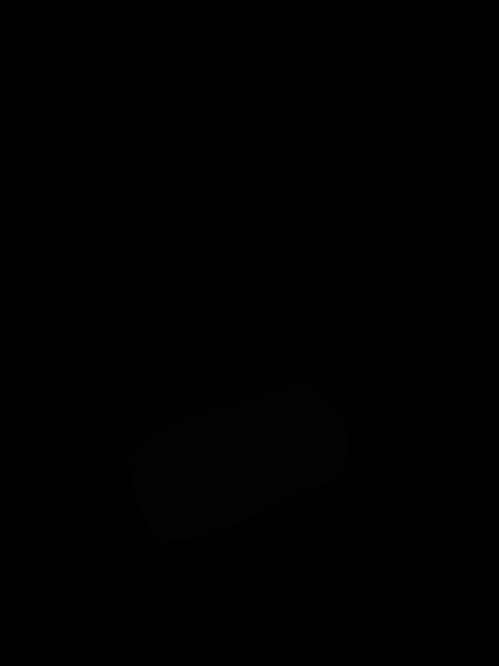can: (127, 379, 352, 548)
milk_bottle: (120, 185, 228, 464)
